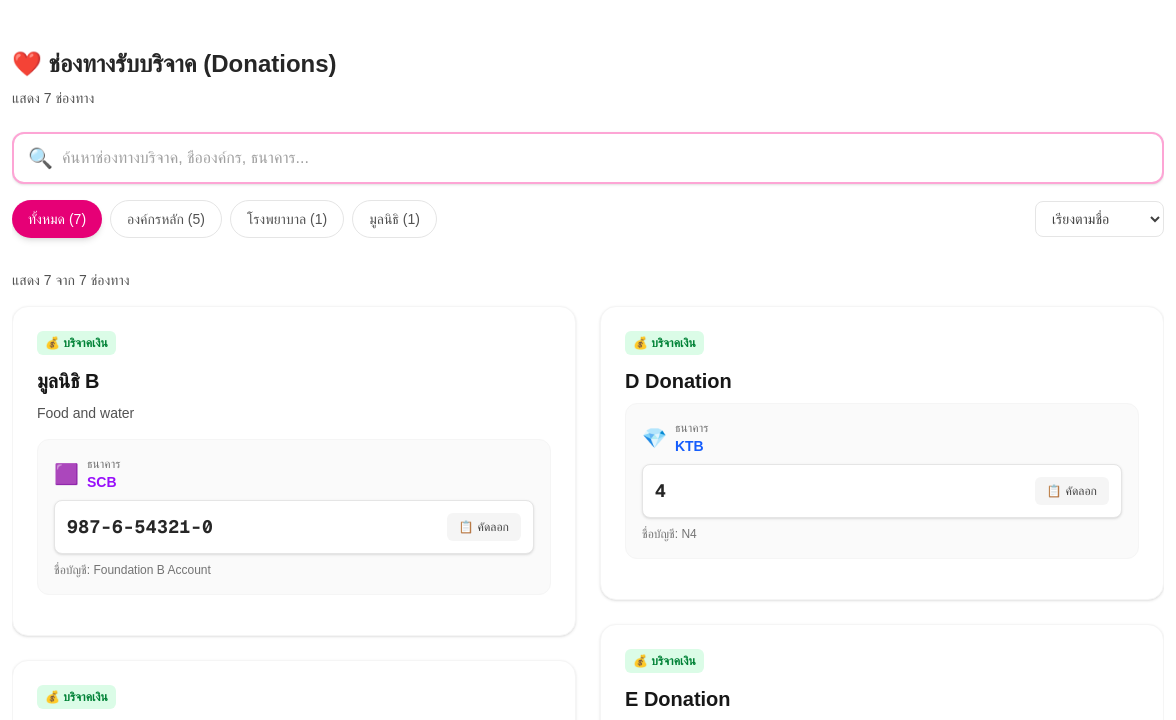
Test: DonationsSection › filters by search term
The width and height of the screenshot is (1176, 720).
In the field with placeholder "ค้นหาช่องทางบริจาค, ชื่อองค์กร, ธนาคาร...": x=588, y=158 [12, 132, 1164, 184], type "โรงพยาบาล"
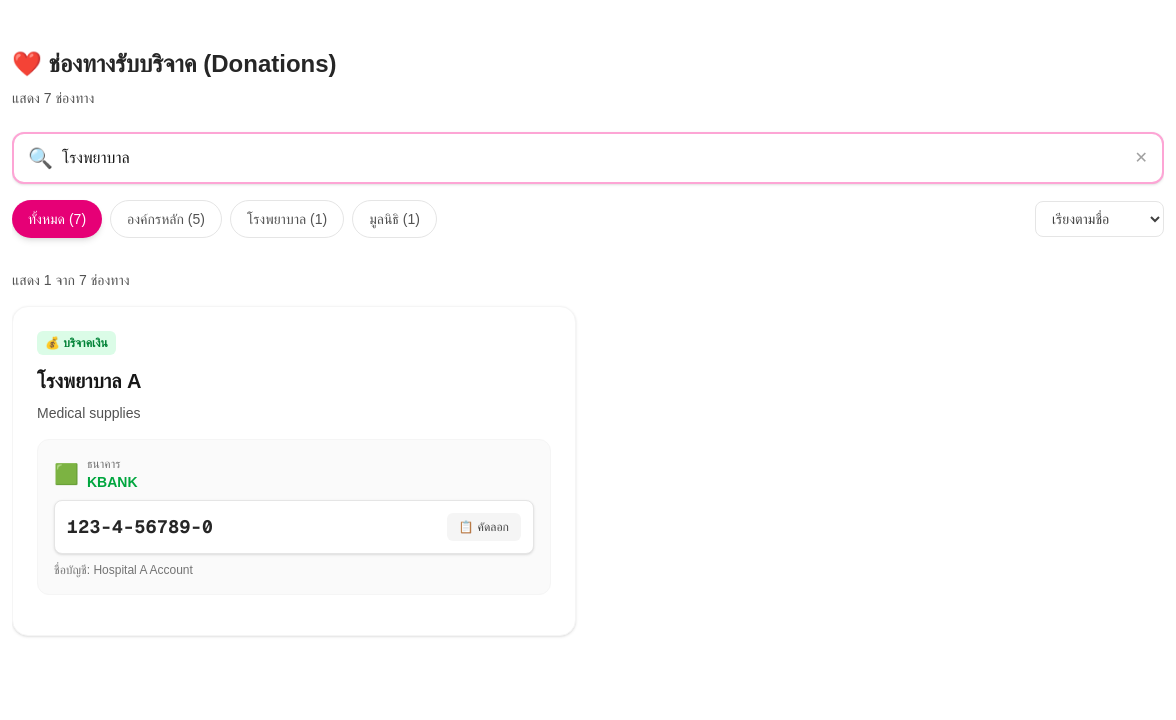
Check: the heading "โรงพยาบาล A" is shown, box [37, 370, 142, 392]
Check: the heading "มูลนิธิ B" is gone
